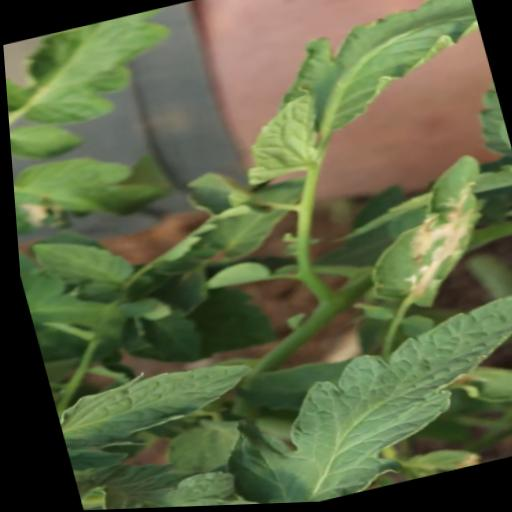Healthy: (188, 282, 512, 507), (43, 348, 265, 467)
Leaf_Miner: (338, 156, 512, 324)
